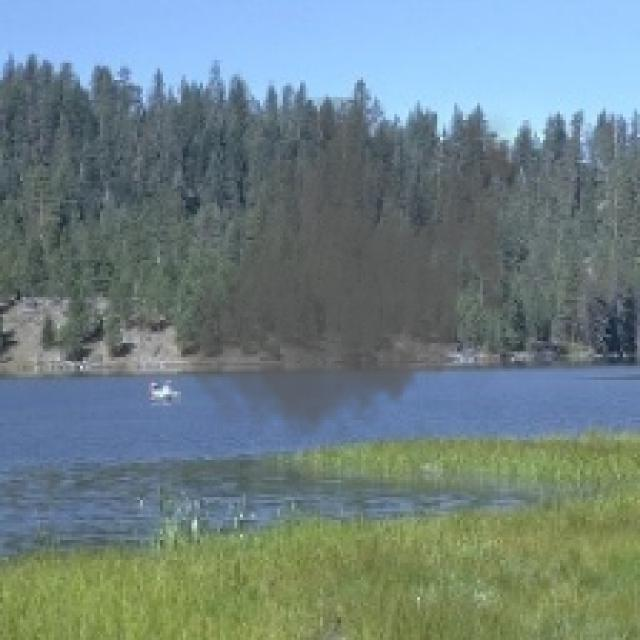smoke: (177, 97, 532, 454)
